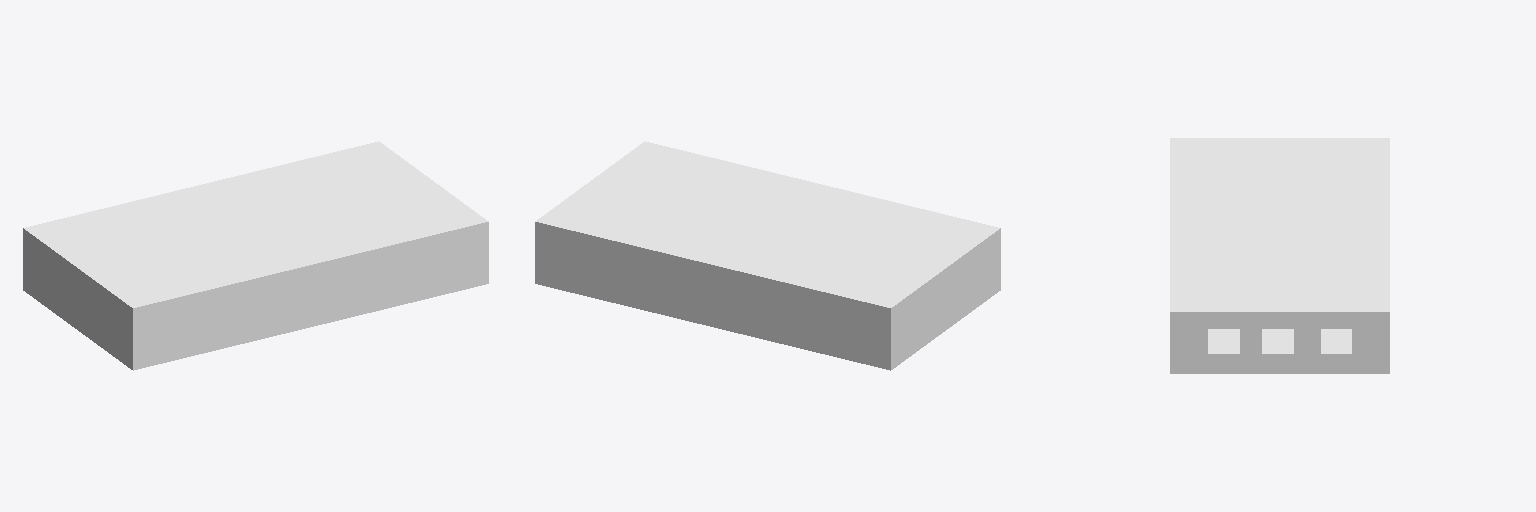
File: bigroom.obj
3 renders of one model, left to right at view 1: azimuth 30°, elevation 25°; view 2: azimuth 150°, elevation 25°; view 3: azimuth 270°, elevation 25°, orthographic.
Parts seen in each view (by area): view 1: Cube; view 2: Cube; view 3: Cube.
Boxes of the visible parts, <box> form: Cube: <box>23,141,488,370</box>; Cube: <box>535,141,1000,370</box>; Cube: <box>1170,138,1389,373</box>.
Size of the model in its own units: 19.05 by 3.18 by 10.18.